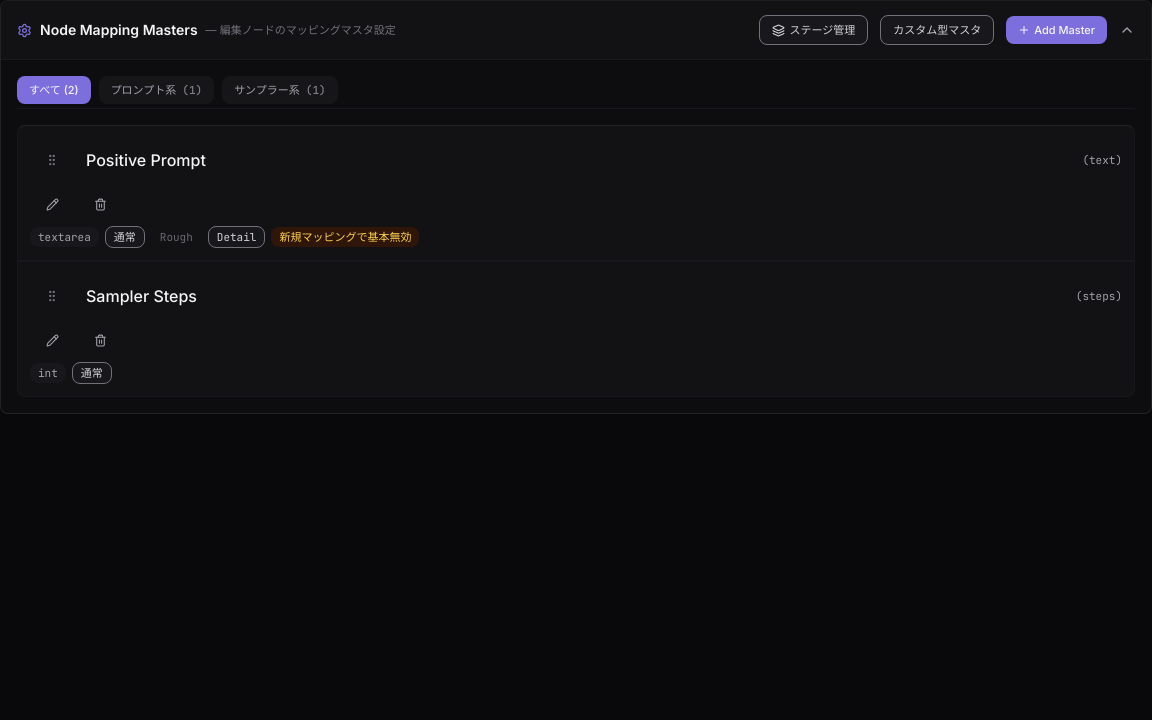
it: MappingMasterSection & Modals › MappingMasterEditModal › [REQ-358/AC-28][REQ-365/AC-3] keeps disabled masters visible and editable
Expected: the text "新規マッピングで基本無効" is shown, 271,227 -> 419,247
Click the button named "Positive Prompt のマッピング設定を編集": [52, 204] box 30,182 -> 74,226
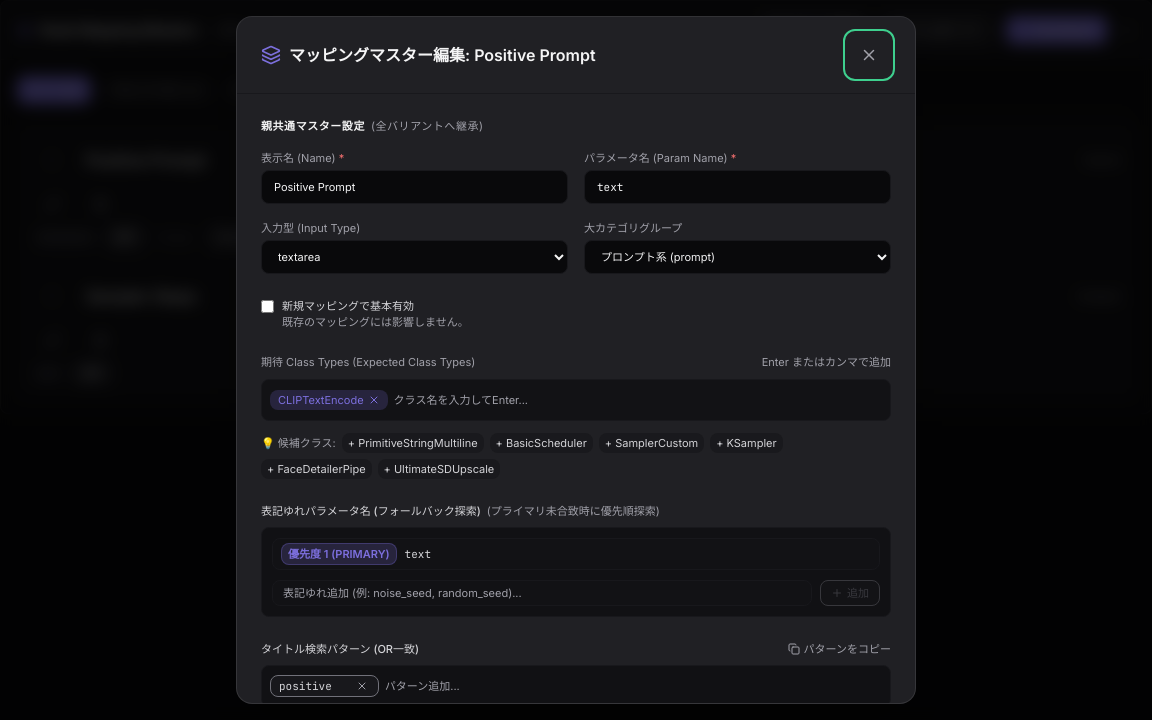
Now the checkbox labelled "新規マッピングで基本有効" is not checked, box 261,300 -> 274,313
